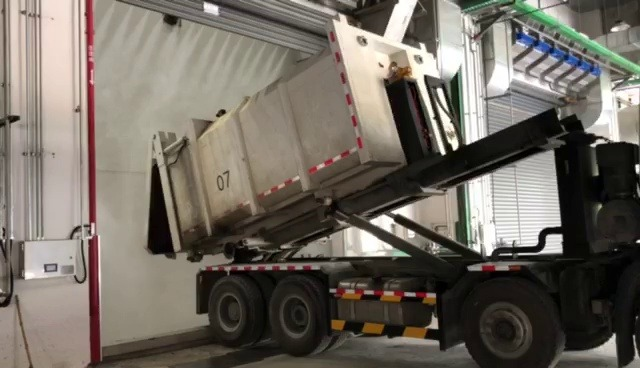truck: (142, 13, 639, 368)
